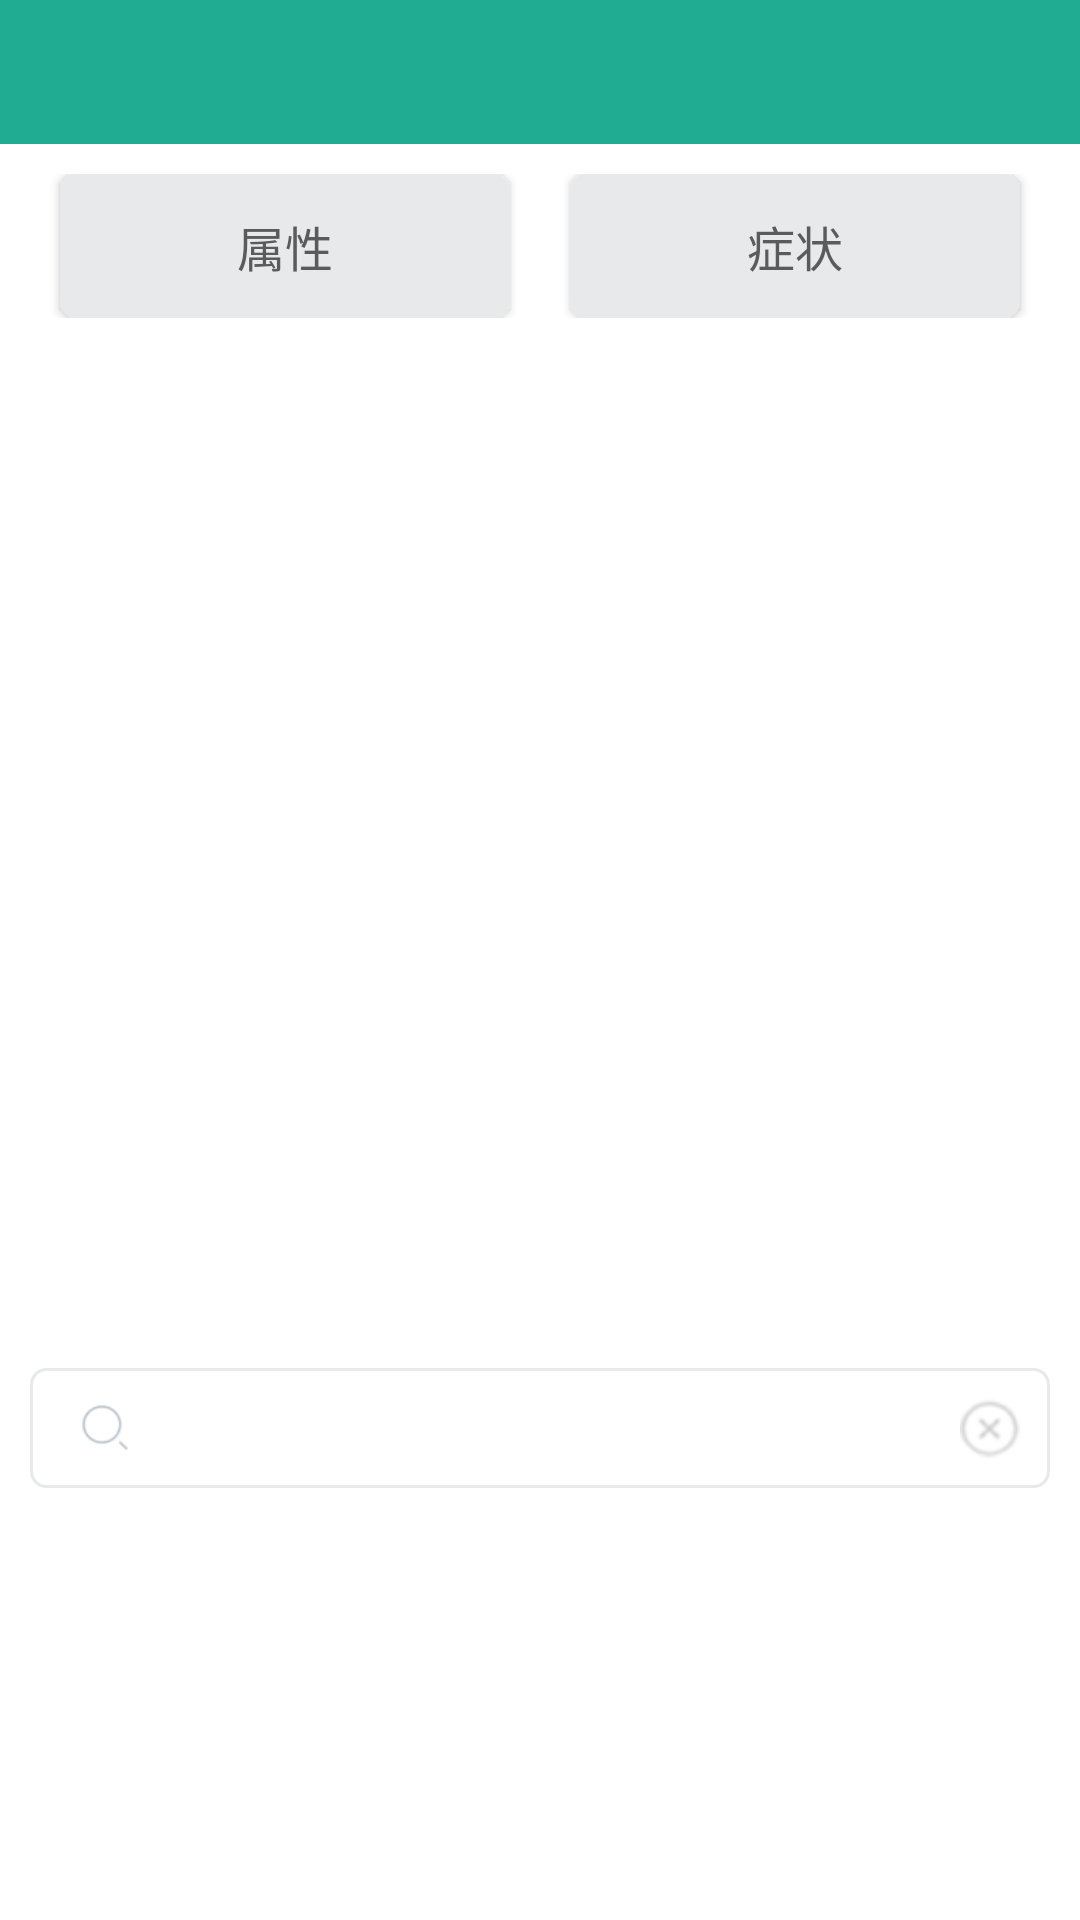

Screen size 1080×1920. Icon name, then its box in pixels as (x1, y1, x2, y2):
search: (82, 1405, 128, 1449)
